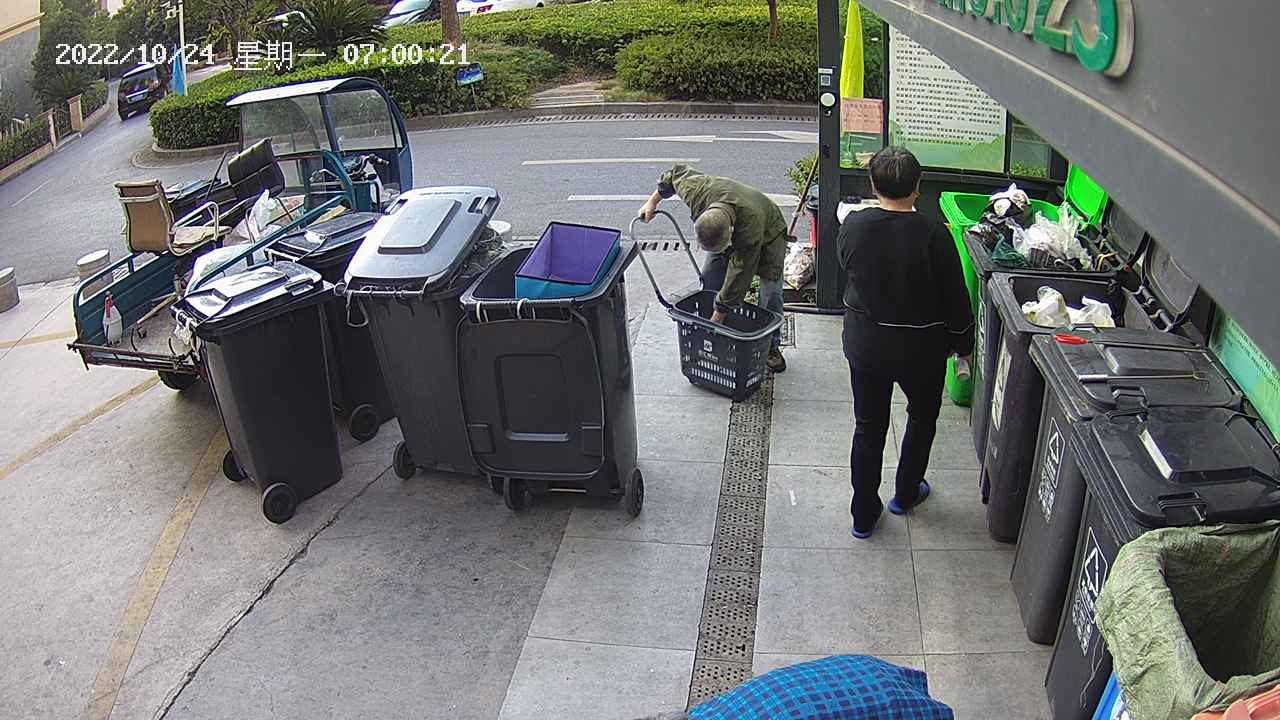person: (831, 140, 979, 543), (636, 156, 793, 377)
